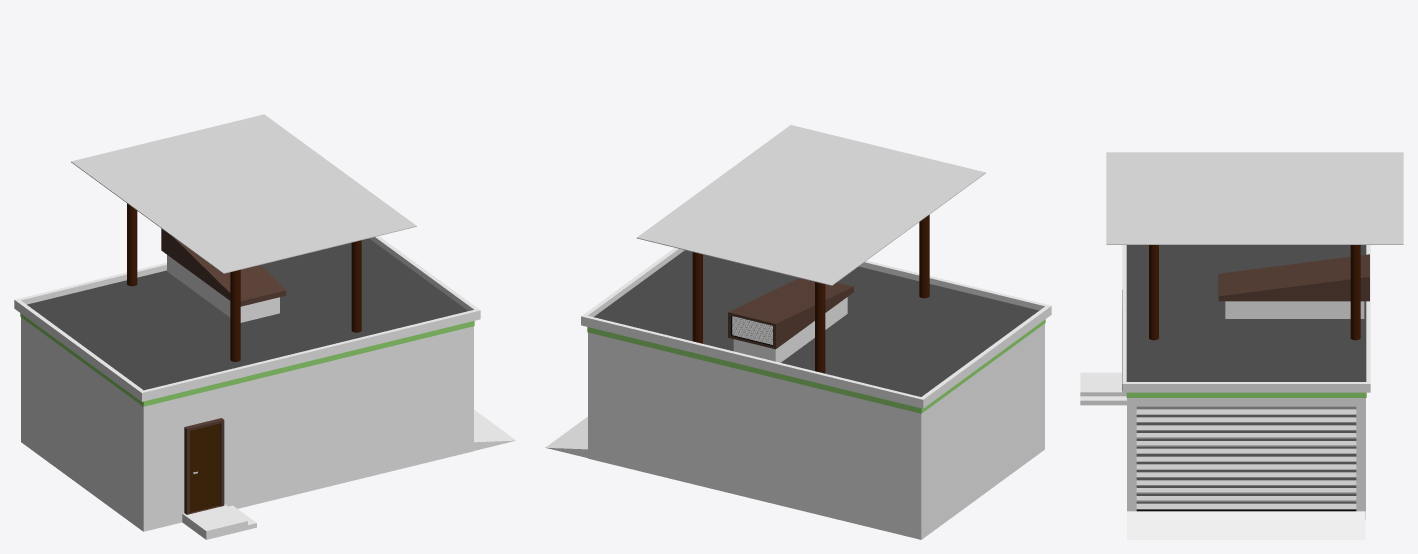
The model's file is garage_imp.glb.
3 renders of one model, left to right at view 1: azimuth 30°, elevation 25°; view 2: azimuth 150°, elevation 25°; view 3: azimuth 270°, elevation 25°, orthographic. The views are drawn at different scales.
Parts seen in each view (by area): view 1: Garage, Плоскость, Навес; view 2: Garage, Плоскость, Навес, Решетка на крыше; view 3: Garage, Плоскость, GarageDoor, Навес.
Boxes of the visible parts, bbox=[...] form: Garage: bbox=[14, 228, 515, 539]; Плоскость: bbox=[71, 114, 416, 273]; Навес: bbox=[127, 203, 361, 361]; Garage: bbox=[545, 248, 1051, 539]; Плоскость: bbox=[637, 125, 985, 285]; Навес: bbox=[692, 215, 929, 373]; Решетка на крыше: bbox=[732, 316, 772, 344]; Garage: bbox=[1080, 245, 1370, 539]; Плоскость: bbox=[1106, 152, 1403, 244]; GarageDoor: bbox=[1136, 406, 1356, 509]; Навес: bbox=[1149, 245, 1360, 340].
Bounding box in the file's own units: 18.12 × 20 × 13.81.
